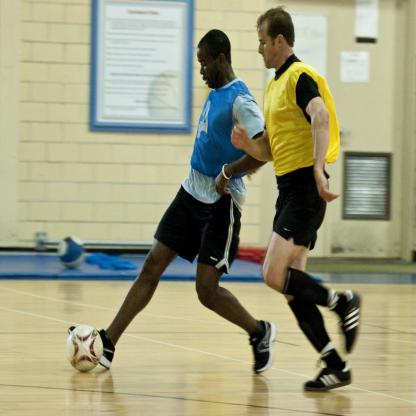Ball: (64, 325, 104, 371), (56, 236, 84, 270)
